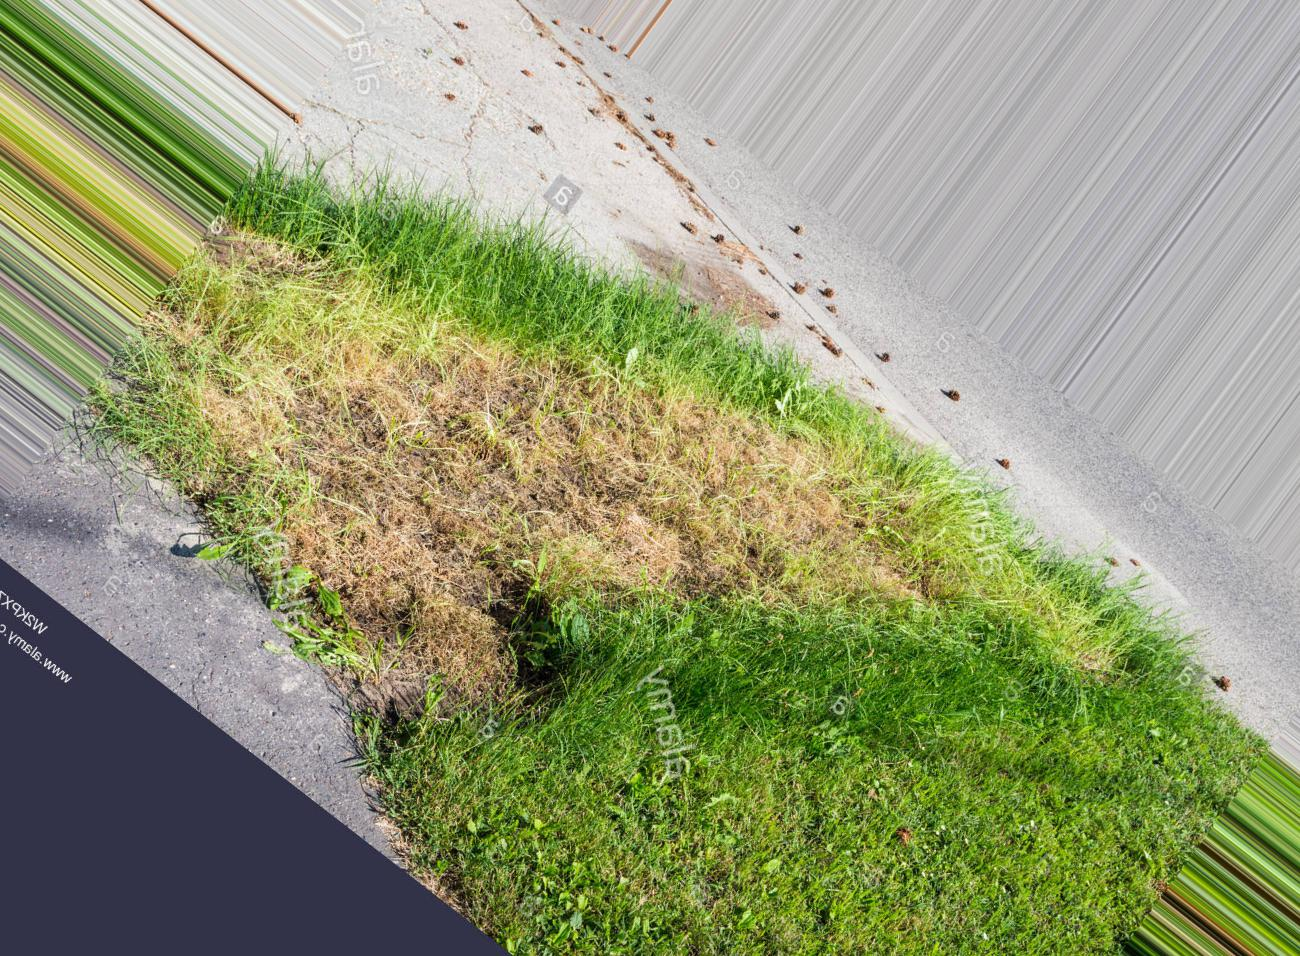patch: (432, 360, 742, 527), (598, 544, 806, 667), (253, 412, 386, 554), (412, 590, 486, 667), (833, 545, 905, 609), (763, 438, 817, 512)
